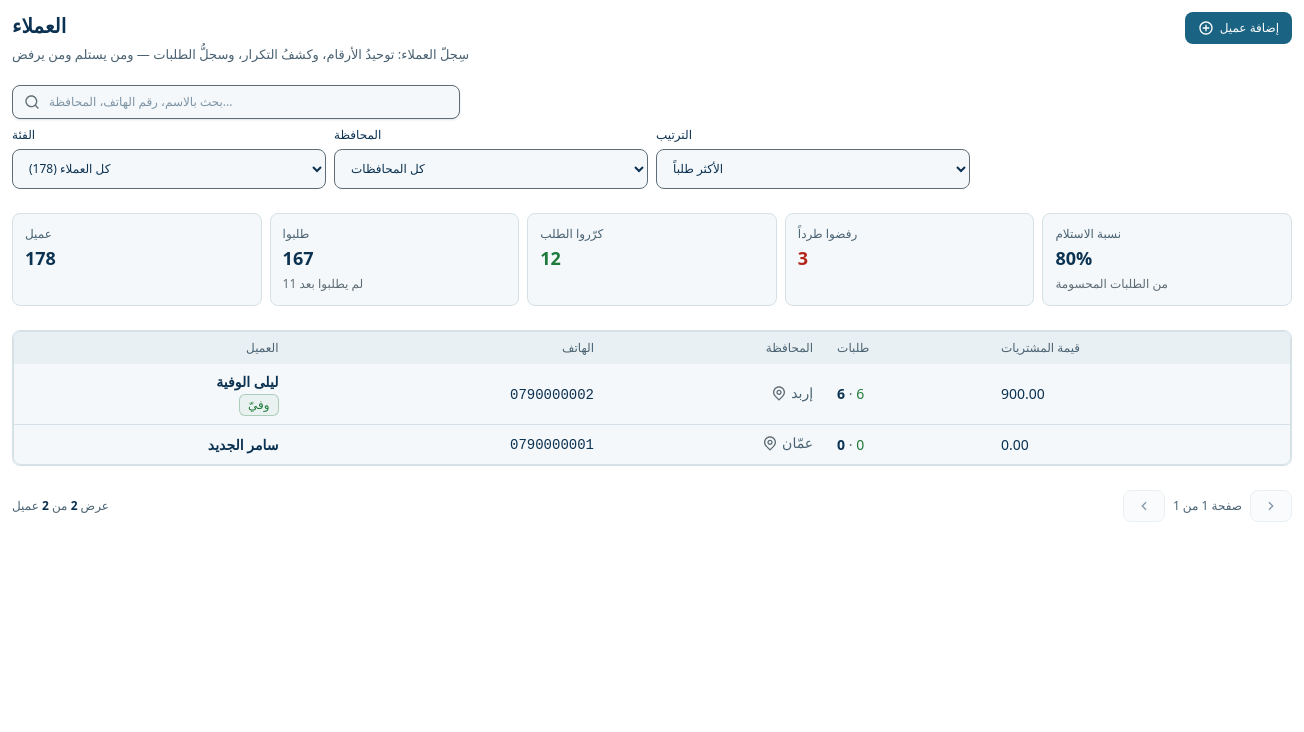
Scenario: the reset › — appears only when something is chosen, counts what is, and puts all three back
This screenshot has width=1304, height=732.
Expected: the button "إعادة تعيين" is not shown
Step 1. Select "رفضوا طرداً (3)" in the dropdown labelled "الفئة" → (169, 169), box [12,149,326,189]
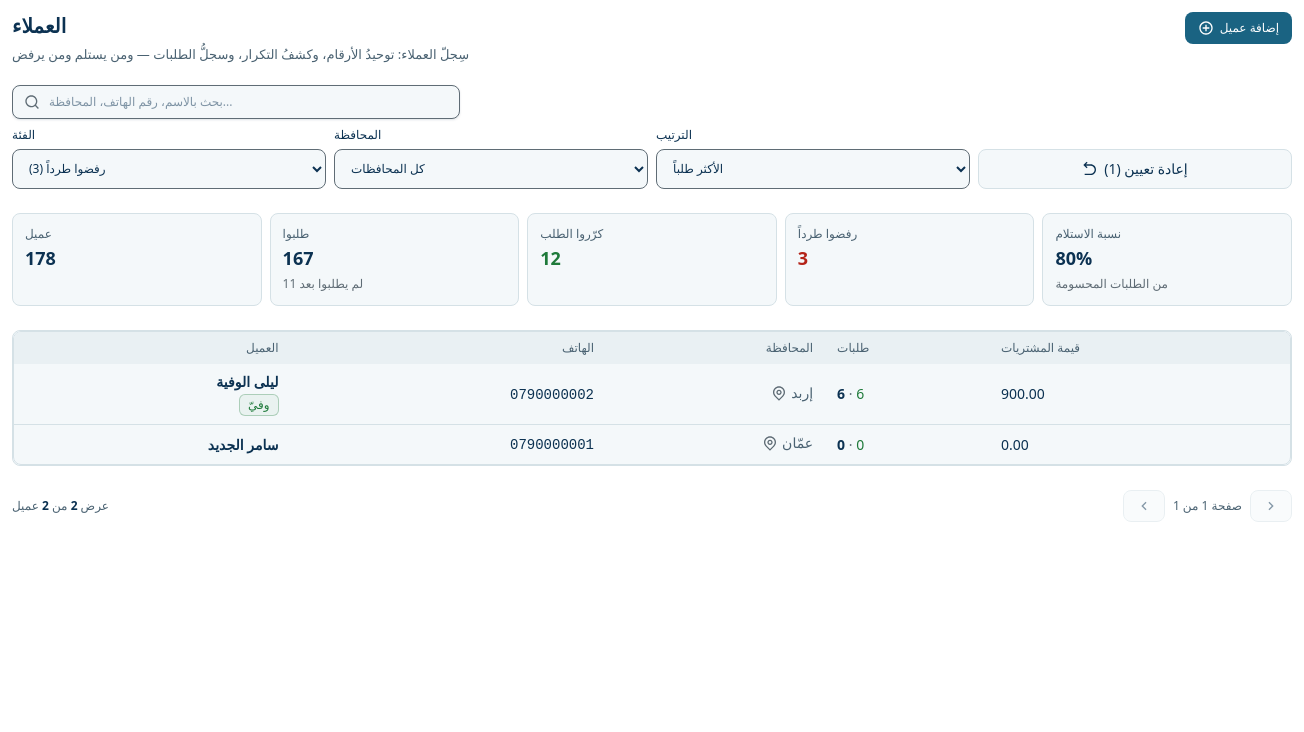
Step 2. Select "إربد (40)" in the dropdown labelled "المحافظة" → (491, 169), box [334,149,648,189]
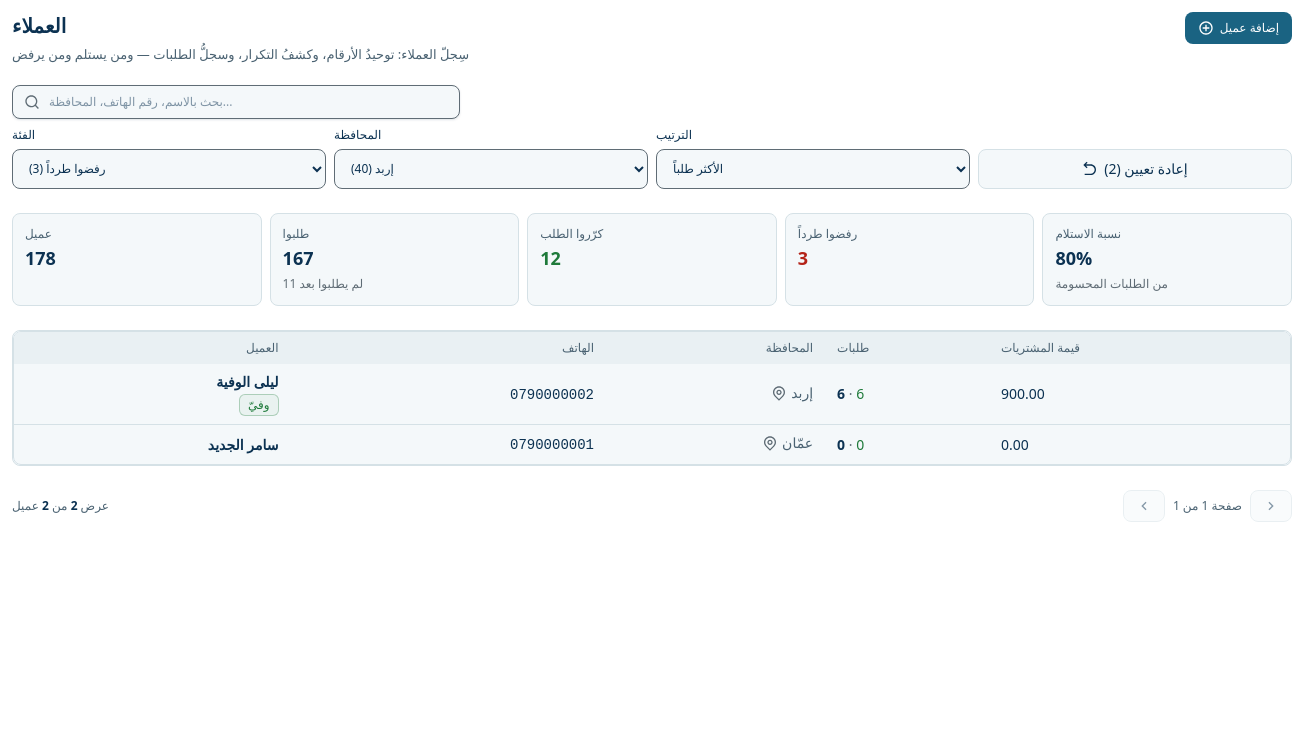
Step 3. Click the button "إعادة تعيين (2)" → (1135, 169), box [978,149,1292,189]
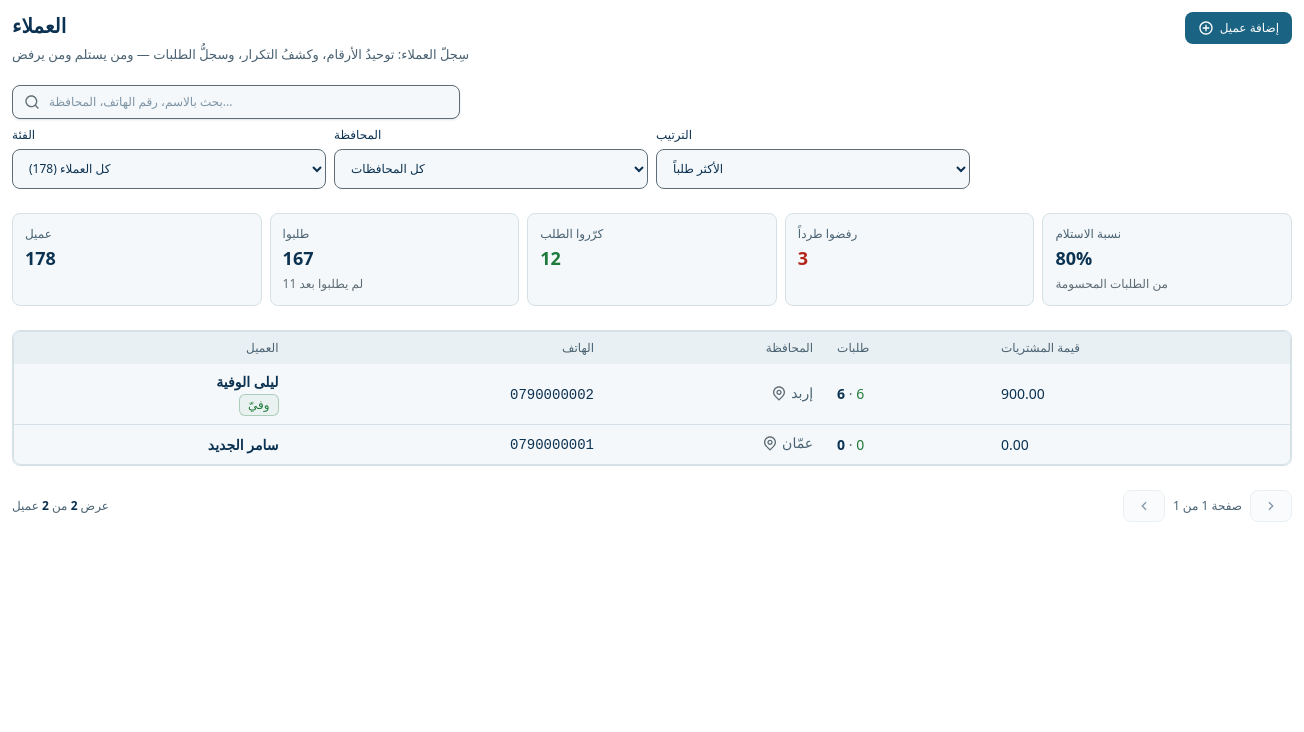
Expected: the button "إعادة تعيين" is gone
